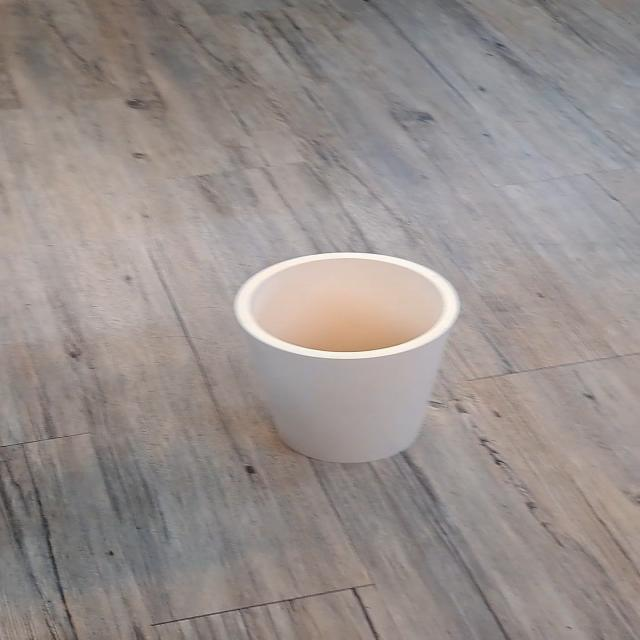CORAL: (205, 232, 551, 476)
